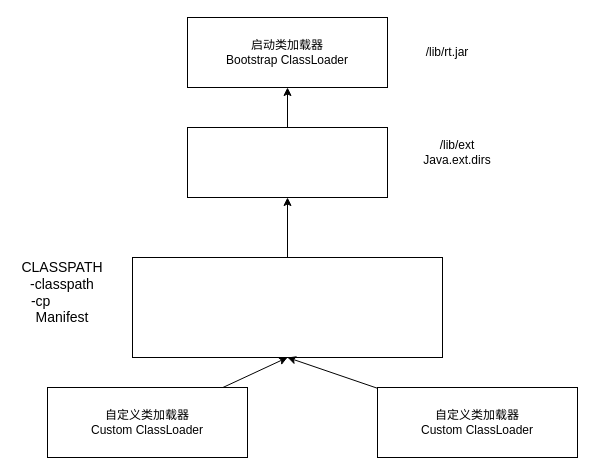
The diagram is 595 pixels wide and 475 high, and some of its shapes have lost their labels. Here are the shapes that lost their labels. From the top down, the centre of each, then its label:
At (x=287, y=162): "扩展类加载器 Extenson ClassLoader".
At (x=287, y=307): "应用程序类加载器 Application ClassLoader".
